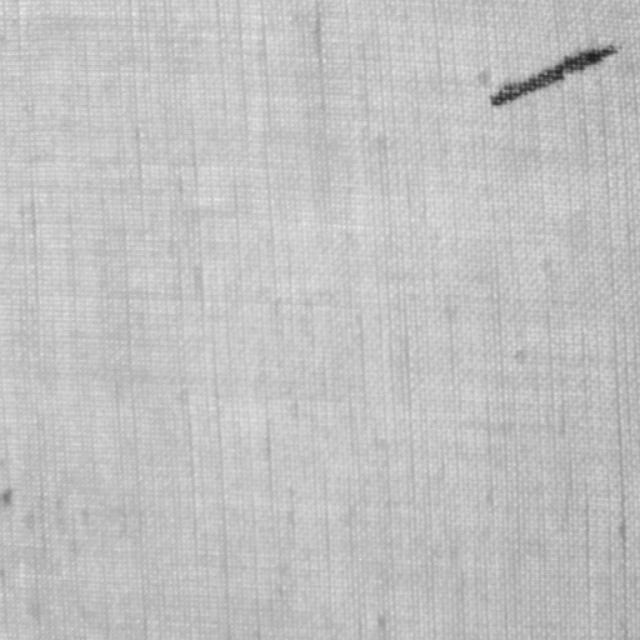oil spot: (487, 40, 618, 108)
